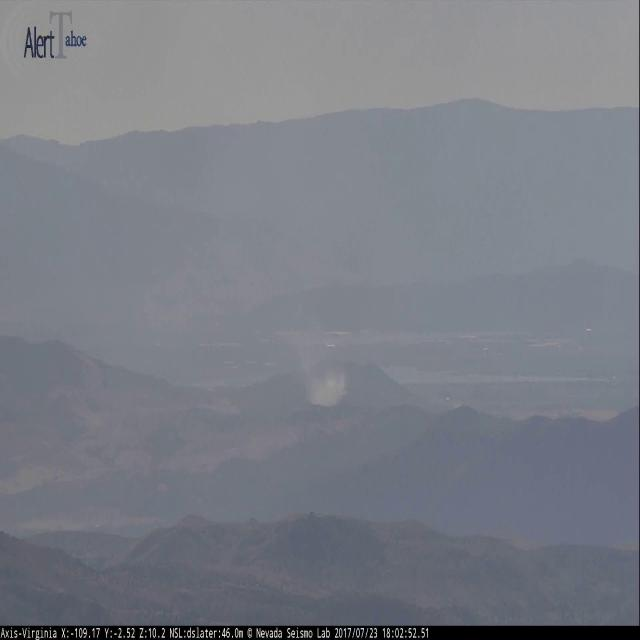smoke: (207, 230, 346, 408)
